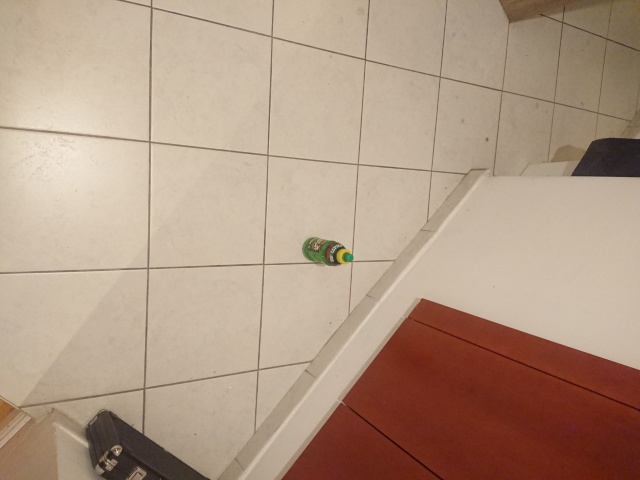Vindi Iso Sport Lemon-Grapefruit 500mL: (300, 236, 354, 268)
